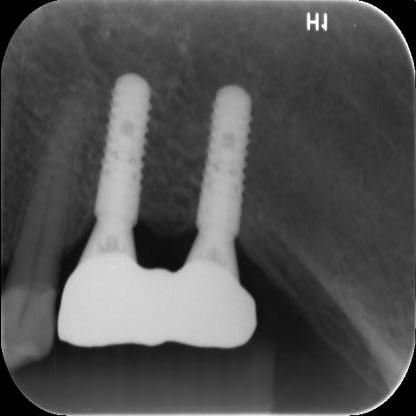ITI: (190, 83, 258, 233), (93, 76, 156, 224)
